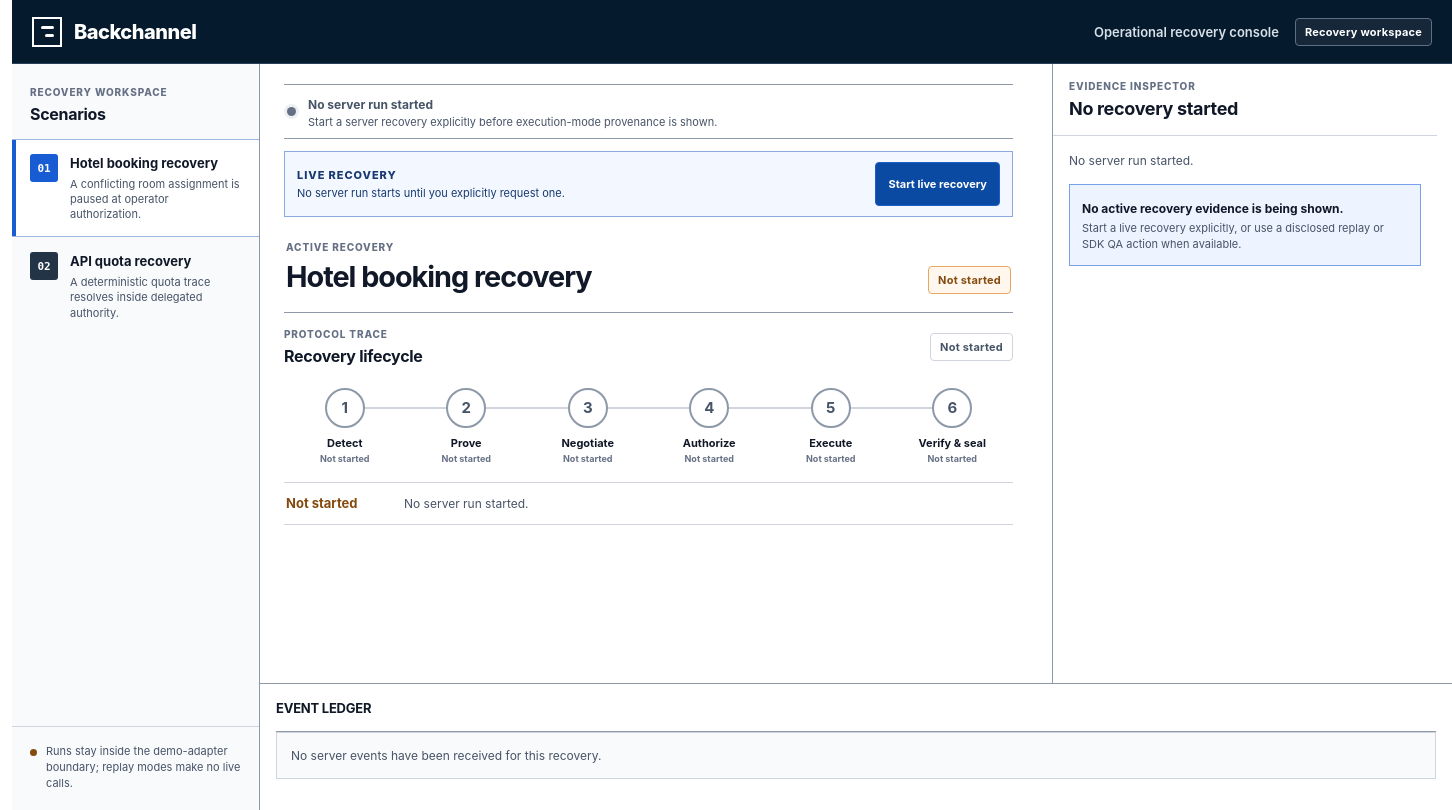
Scenario: browser recovery-creation idempotency › abandons only a conflicting local intent after explicit confirmation and starts nothing
What coordinates should you click on to do the following:
click the button "Start live recovery"
I would click on:
 (938, 184)
Its box is [876,162,1000,206].
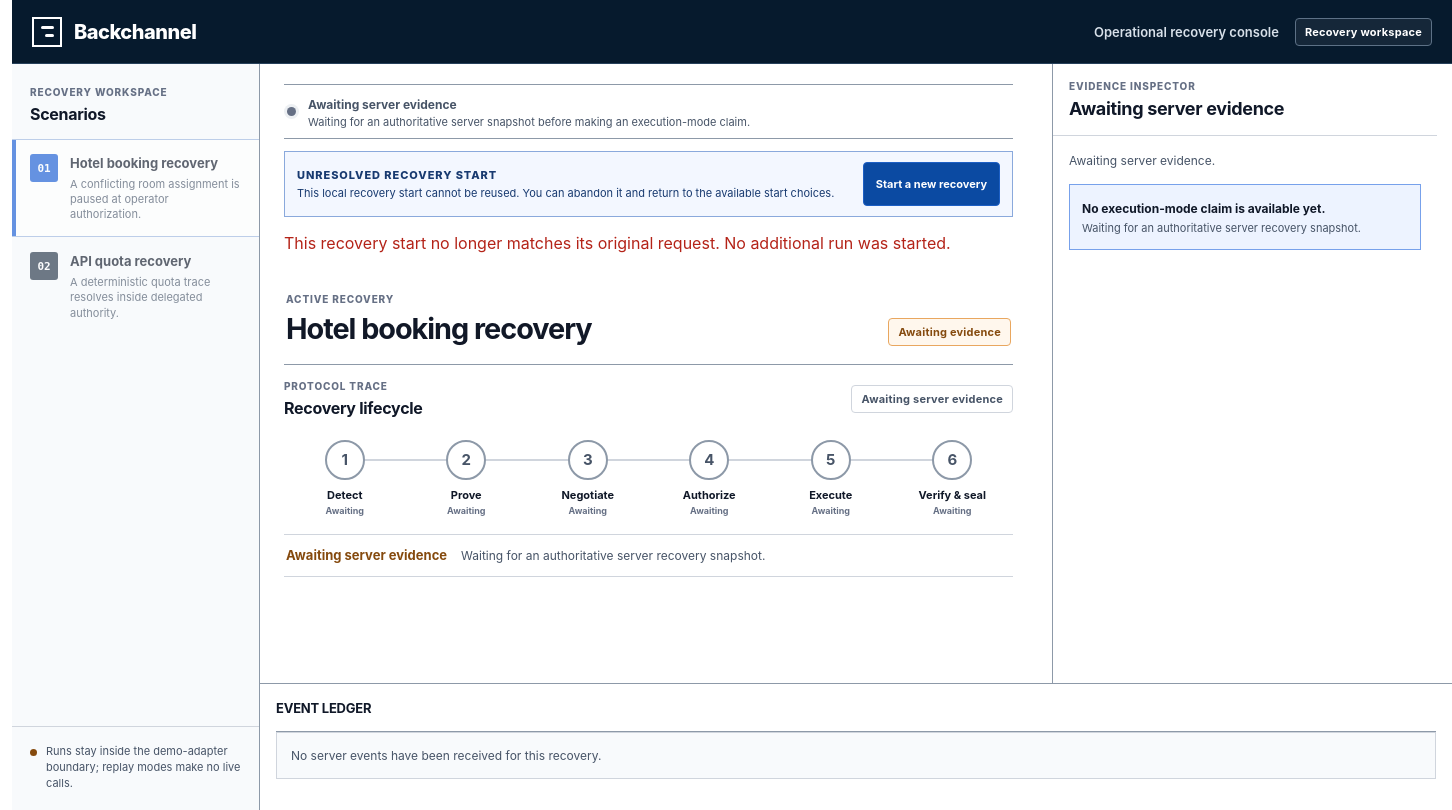
Check: the message shows "This recovery start no longer matches its original request. No additional run was started.", box [284,233,951,253]
Check: the button "Start a new recovery" is shown
What coordinates should you click on to do the following:
click the button "Start a new recovery"
I would click on:
 (931, 184)
Its box is [863,162,1000,206].
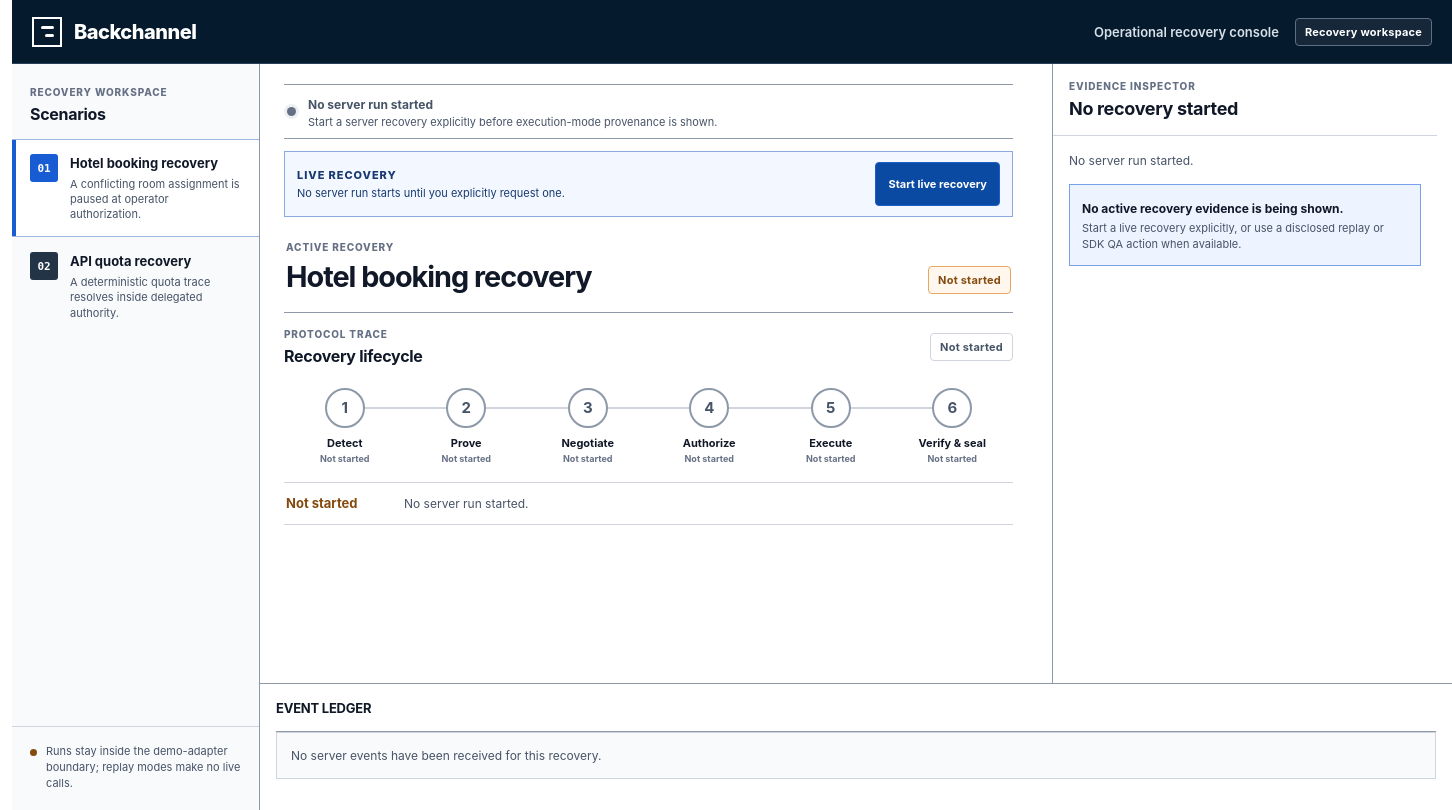
Check: the button "Start live recovery" is shown, box [876,162,1000,206]
Check: the message is gone
